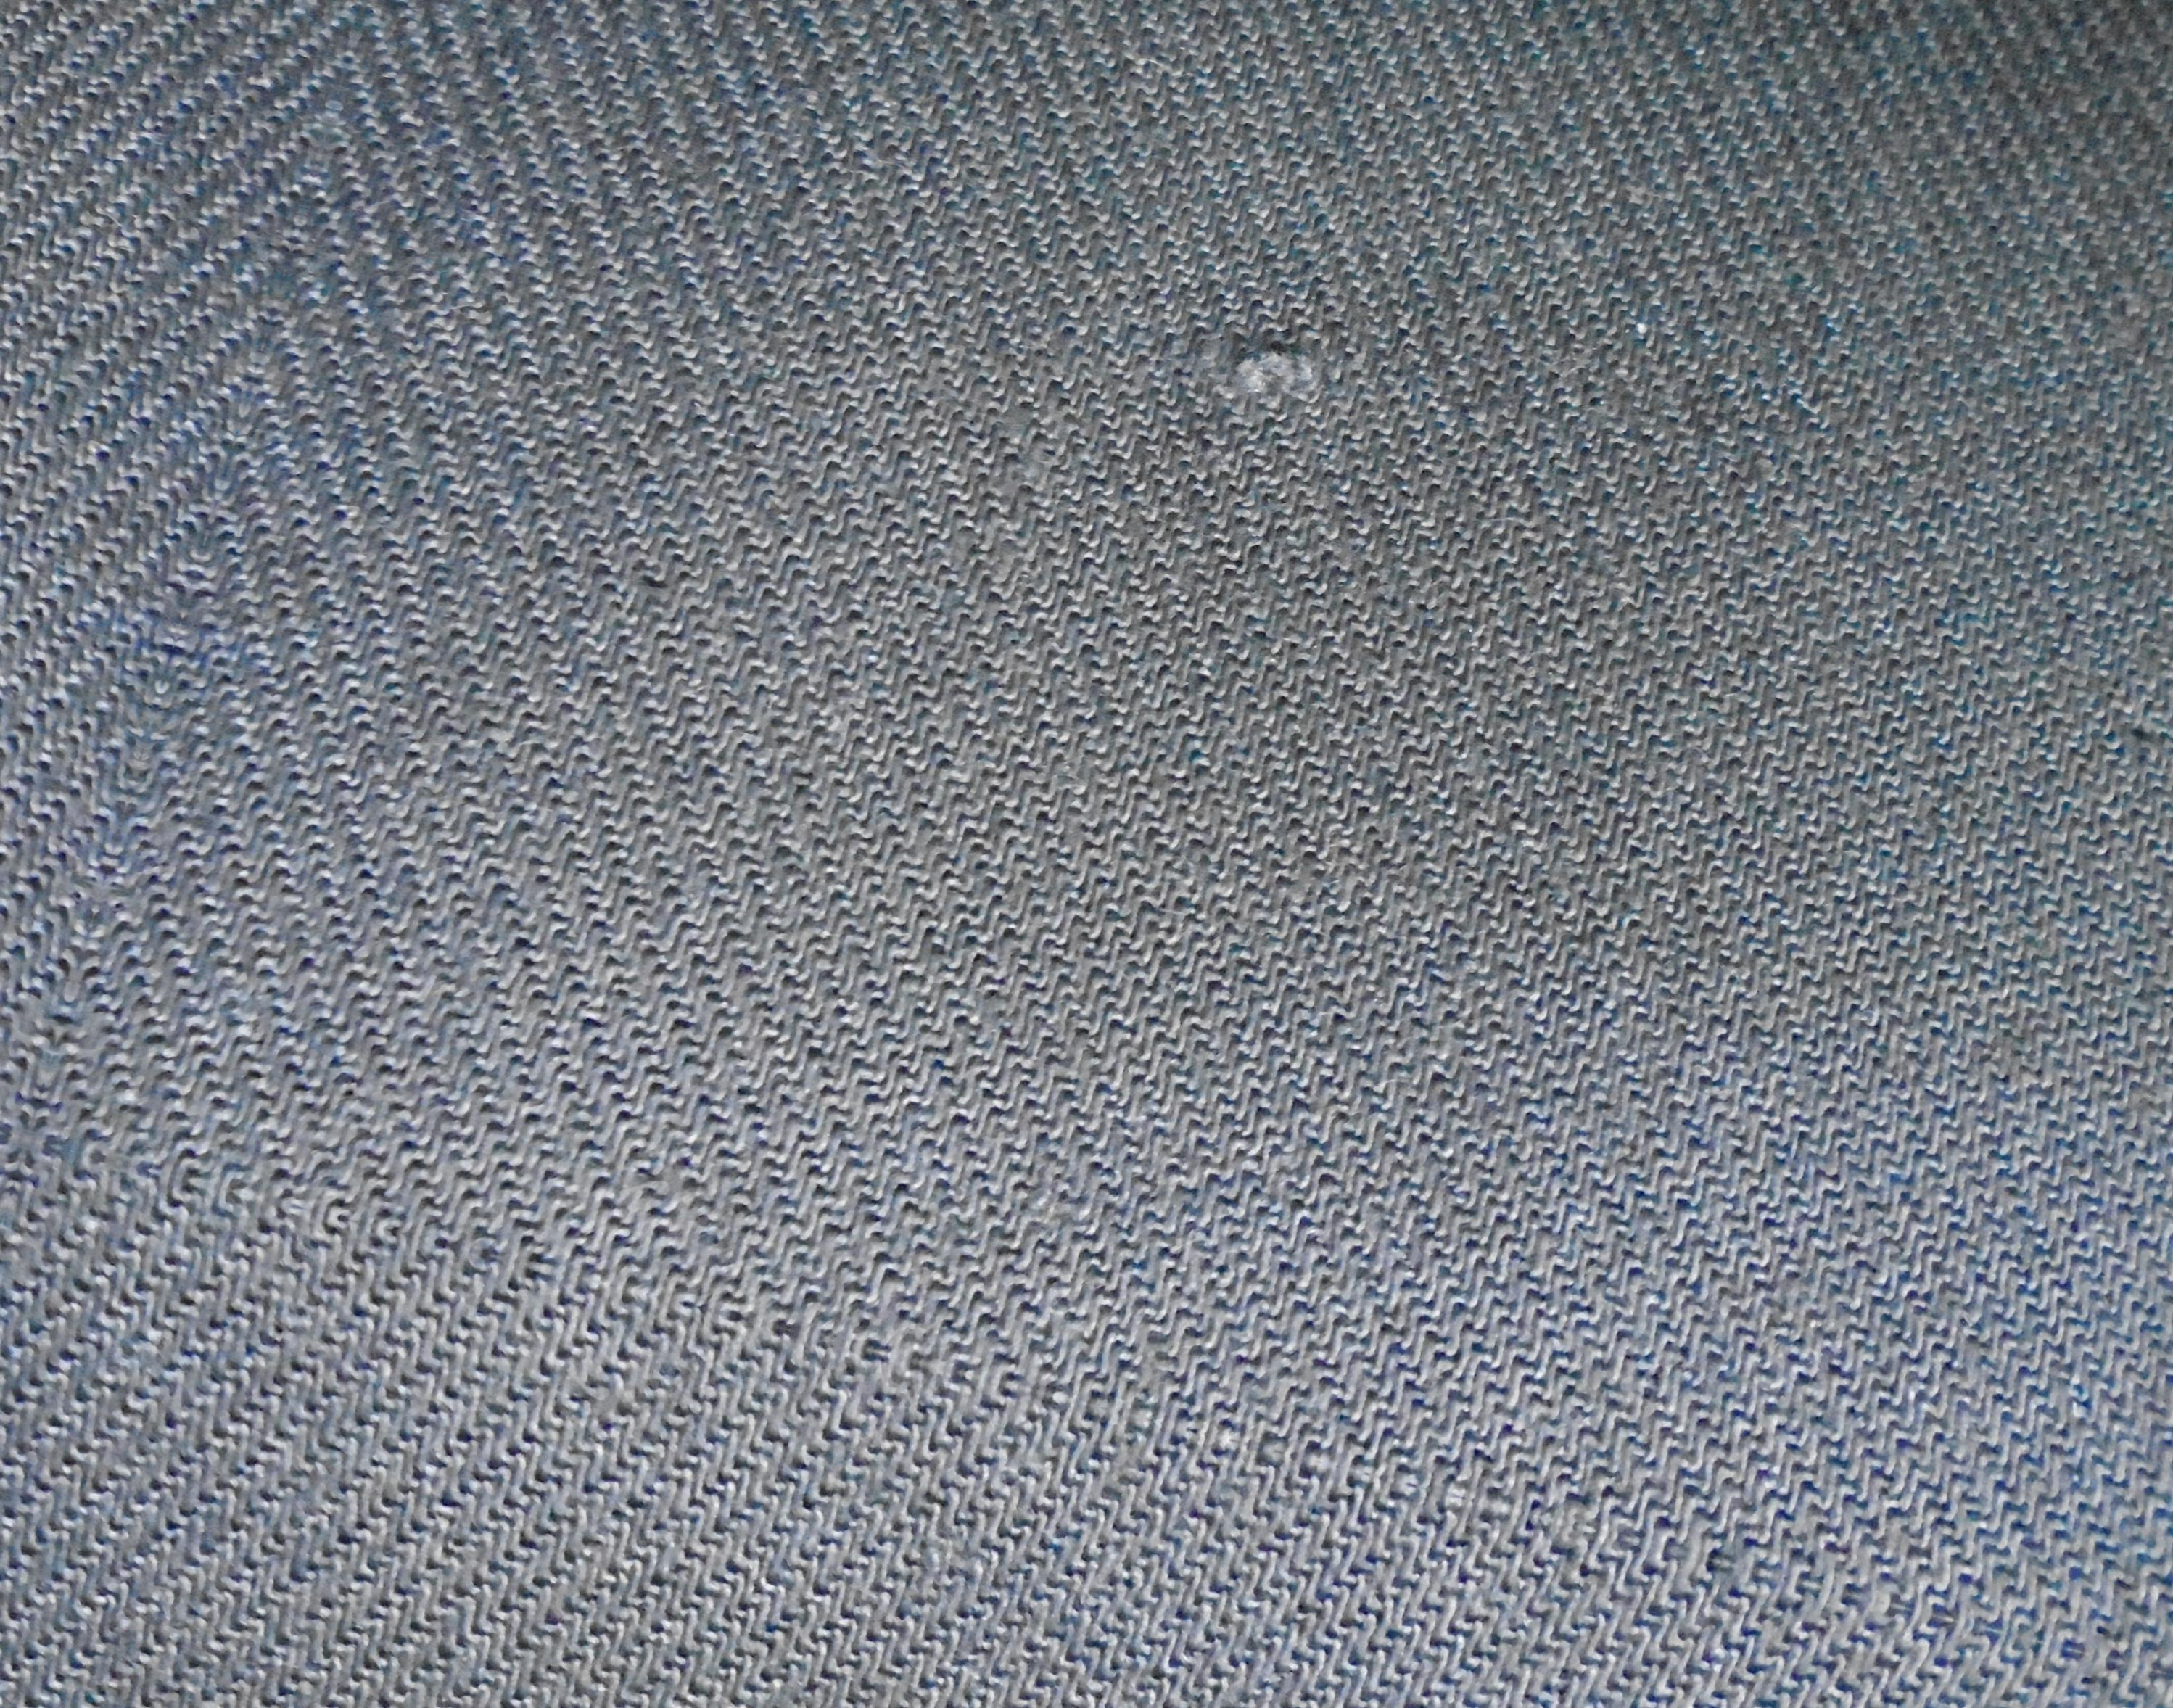knot: (1194, 302, 1360, 445)
